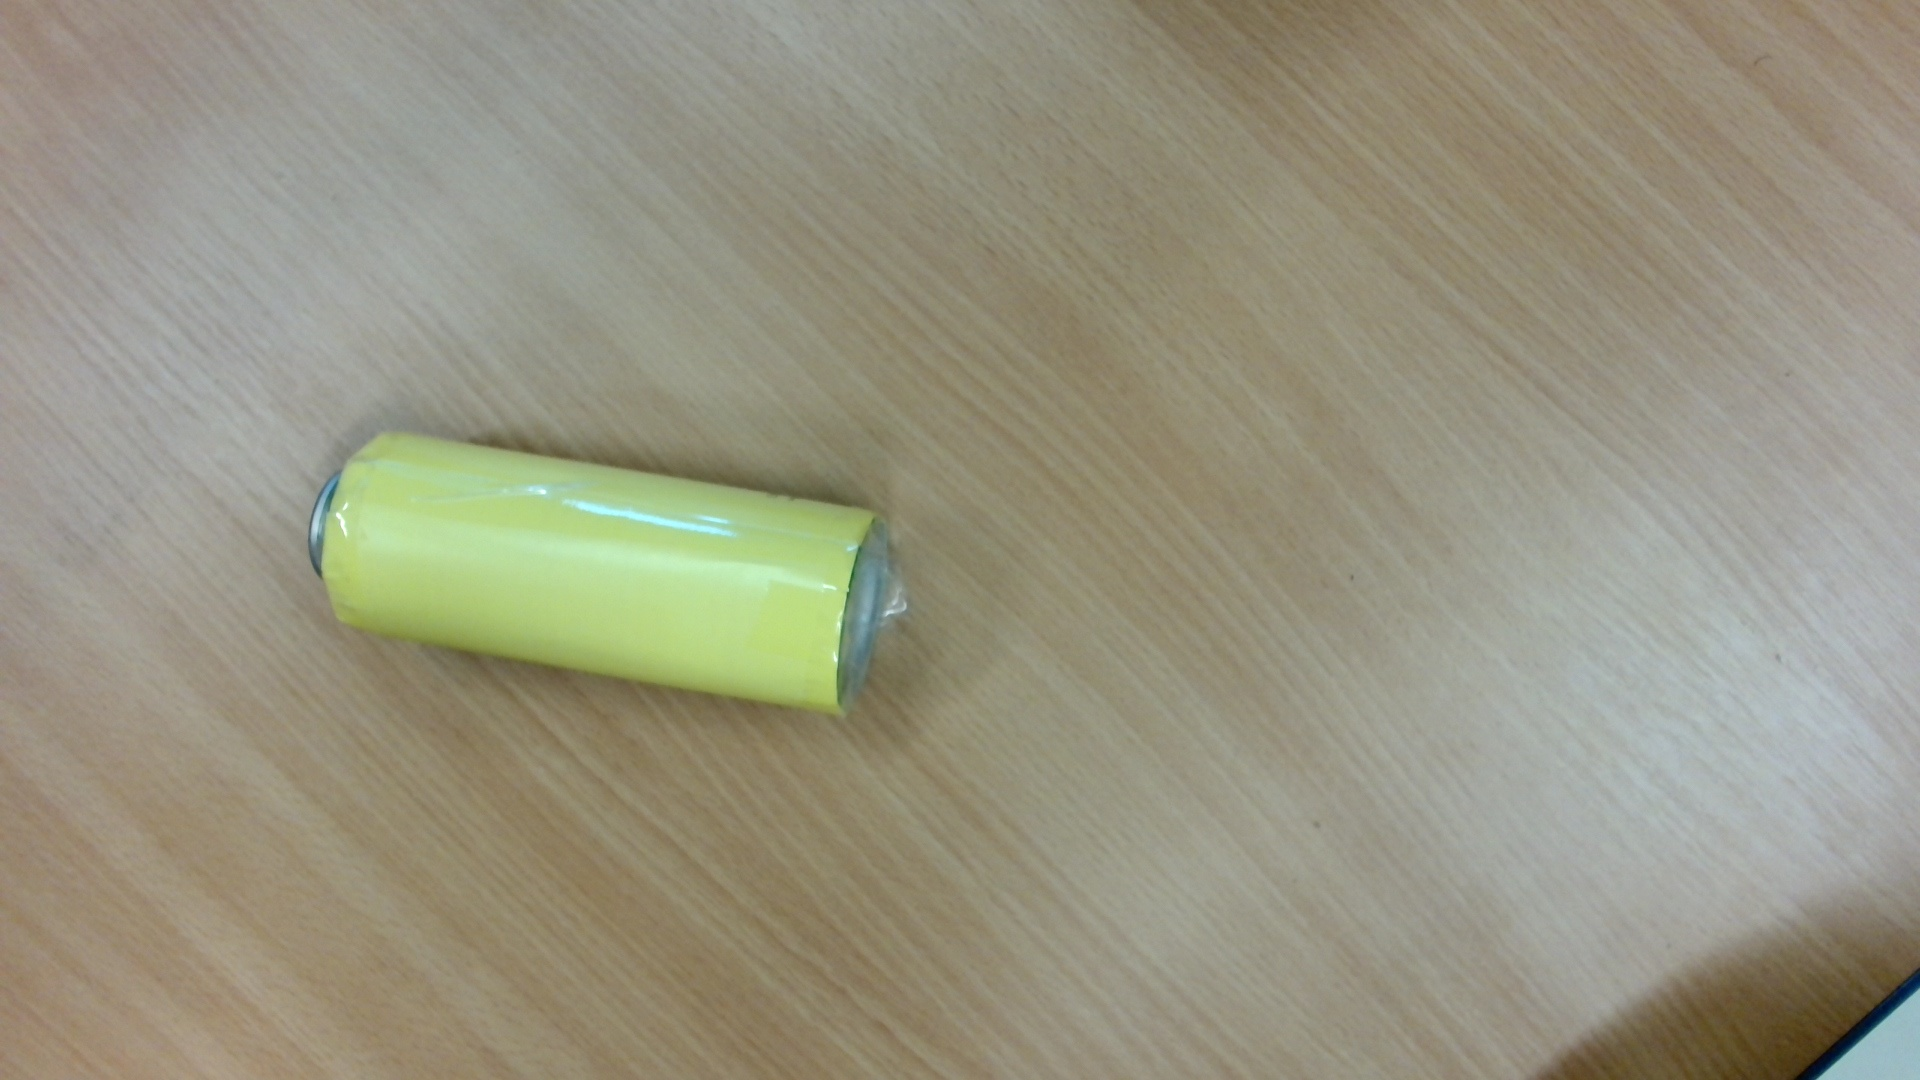Cylinder: (290, 419, 916, 738)
